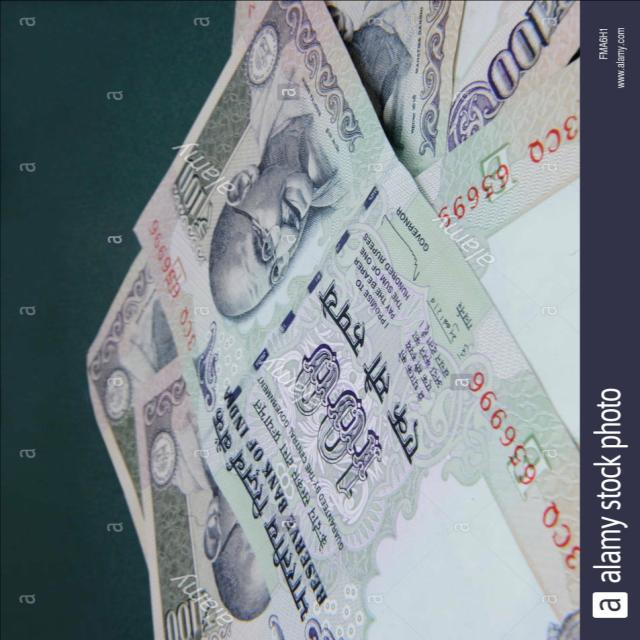100IndianRupees: (126, 0, 579, 640)
